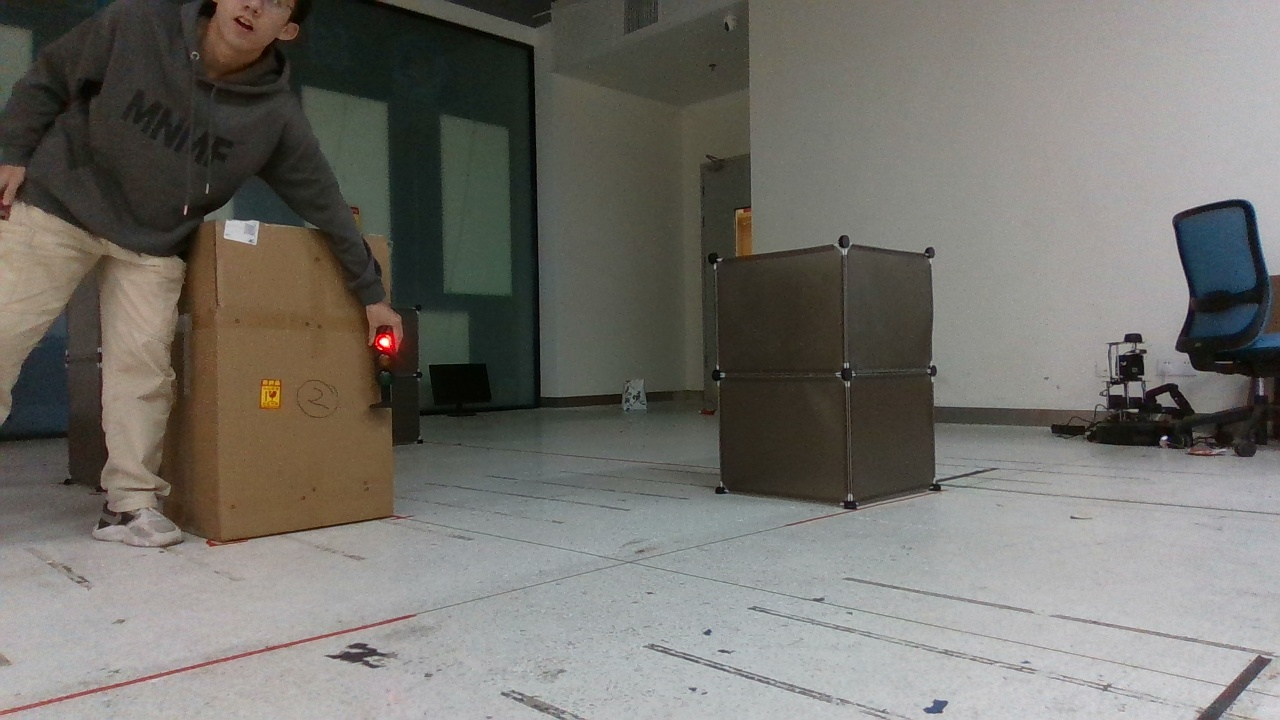red_light: (351, 306, 421, 420)
